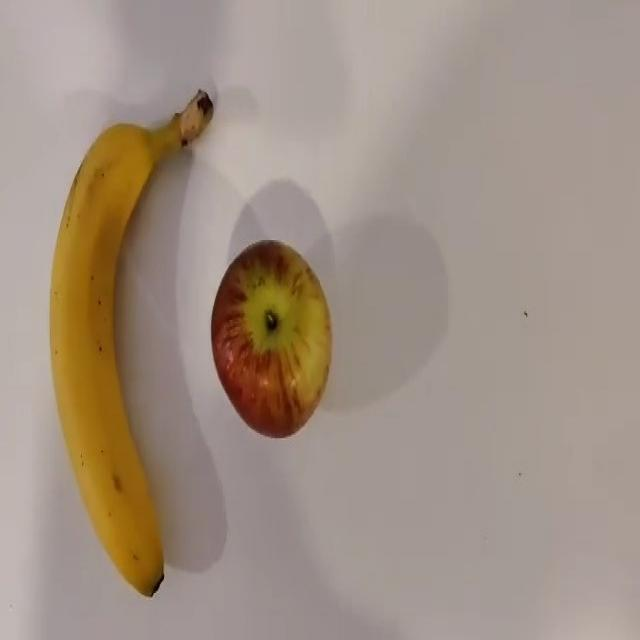Apple: (207, 235, 334, 440)
Banana: (52, 120, 181, 592)
